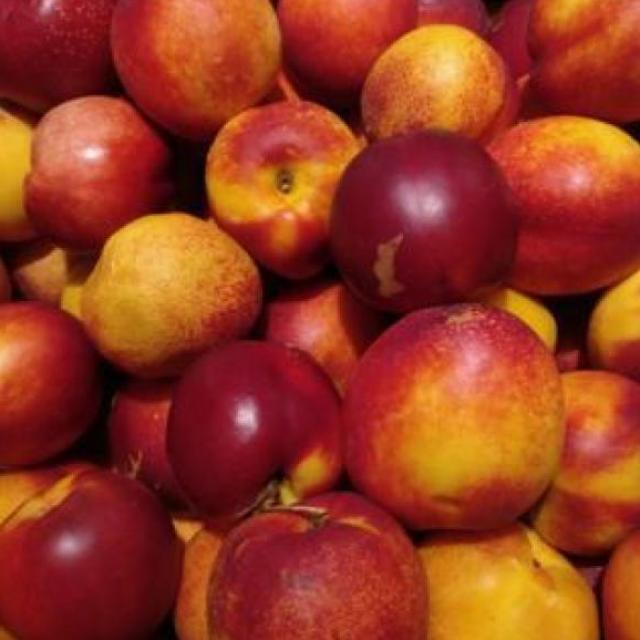Nectarine: (350, 301, 564, 529), (203, 493, 423, 640), (332, 133, 513, 308), (165, 342, 352, 511), (0, 466, 177, 640), (79, 211, 254, 380), (205, 100, 370, 279), (484, 116, 640, 293), (113, 0, 287, 128), (527, 0, 640, 116), (277, 0, 415, 93)
